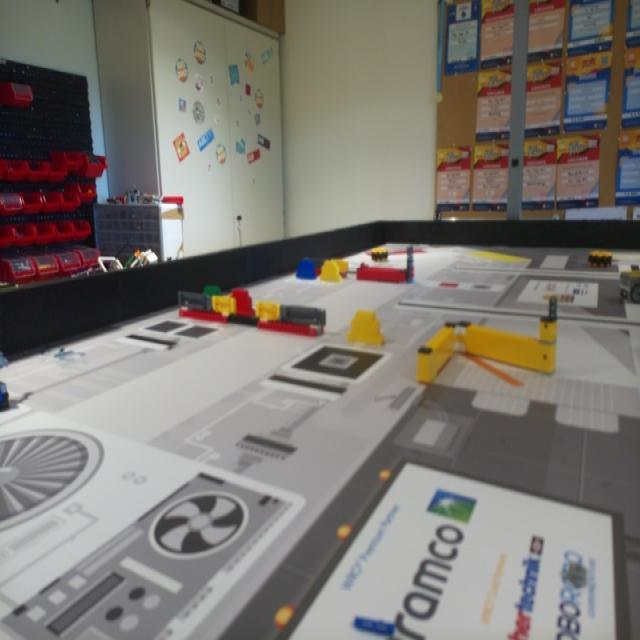blau: (293, 253, 316, 284)
gruen: (202, 281, 224, 304)
rot: (230, 285, 259, 316)
yellow: (348, 309, 388, 349), (319, 259, 343, 283)
